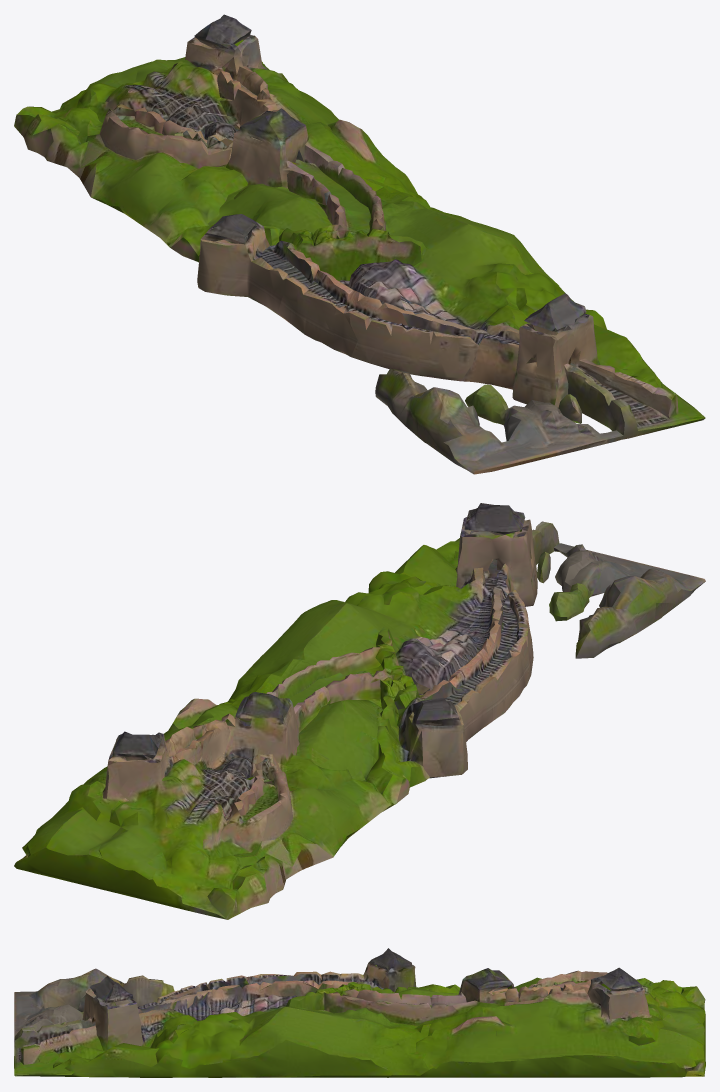
Rendered from badaling-great-wall.glb.
The picture shows the model from 3 angles, top to bottom: view 1: azimuth 30°, elevation 25°; view 2: azimuth 150°, elevation 25°; view 3: azimuth 270°, elevation 25°; orthographic projection. The views are drawn at different scales.
Parts seen in each view (by area): view 1: logan-textured.obj; view 2: logan-textured.obj; view 3: logan-textured.obj.
Part boxes in pixels (box(x1,y1,x2,y2)): logan-textured.obj: box(14, 14, 705, 474); logan-textured.obj: box(14, 503, 705, 919); logan-textured.obj: box(14, 948, 705, 1077).
Size of the model in its own units: 0.3046 by 0.1318 by 1.
Materials: 1 (1 with a texture image).
